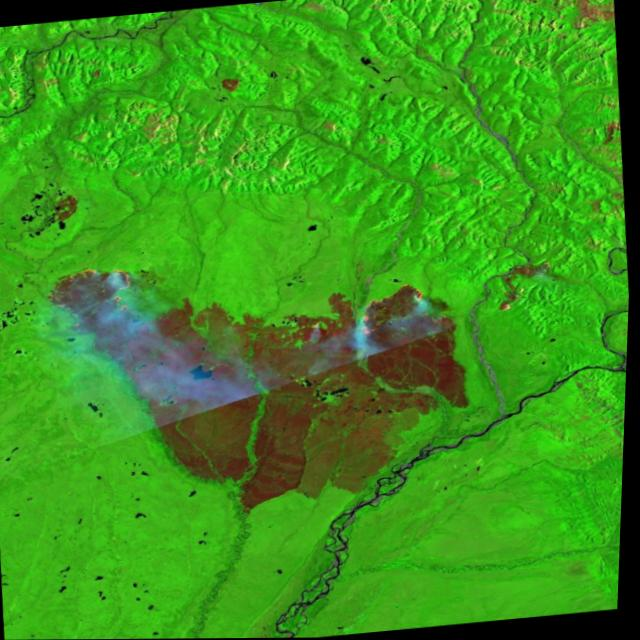fire: (42, 261, 143, 324), (349, 279, 435, 340), (493, 277, 529, 315)
